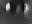person: (17, 5, 22, 18), (6, 3, 11, 14), (25, 4, 30, 15)
